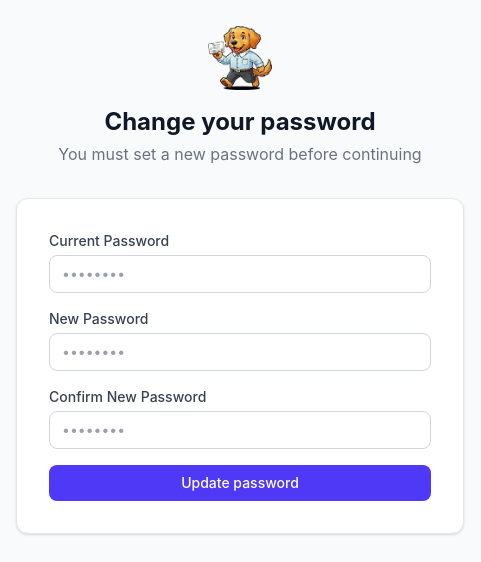
Test case: ChangePasswordPage › shows validation error when new passwords do not match
The width and height of the screenshot is (481, 562).
Type "oldpassword" into the password field labelled "Current Password".
click(240, 274); type("oldpassword")  # box [49,255,431,293]
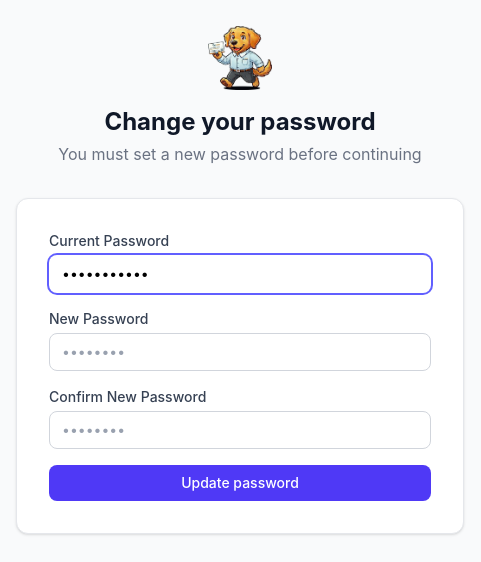
Type "newpassword1" into the password field labelled "New Password".
click(240, 352); type("newpassword1")  # box [49,333,431,371]
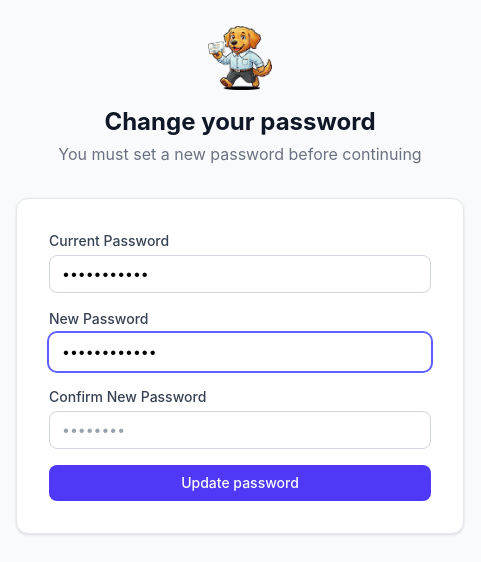
Type "different1" into the password field labelled "Confirm New Password".
click(240, 430); type("different1")  # box [49,411,431,449]
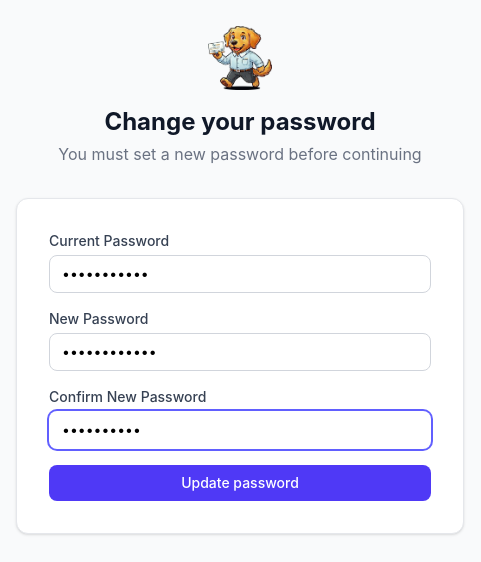
Click the button "Update password".
click(240, 483)  # box [49,465,431,501]
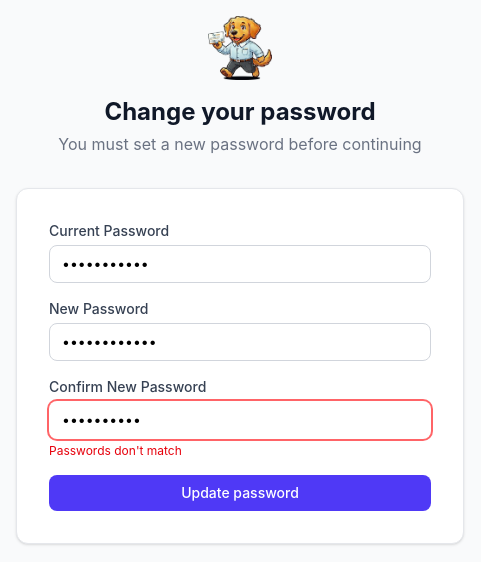
Result: the text "Passwords don't match" is shown at [49,443,182,458]
